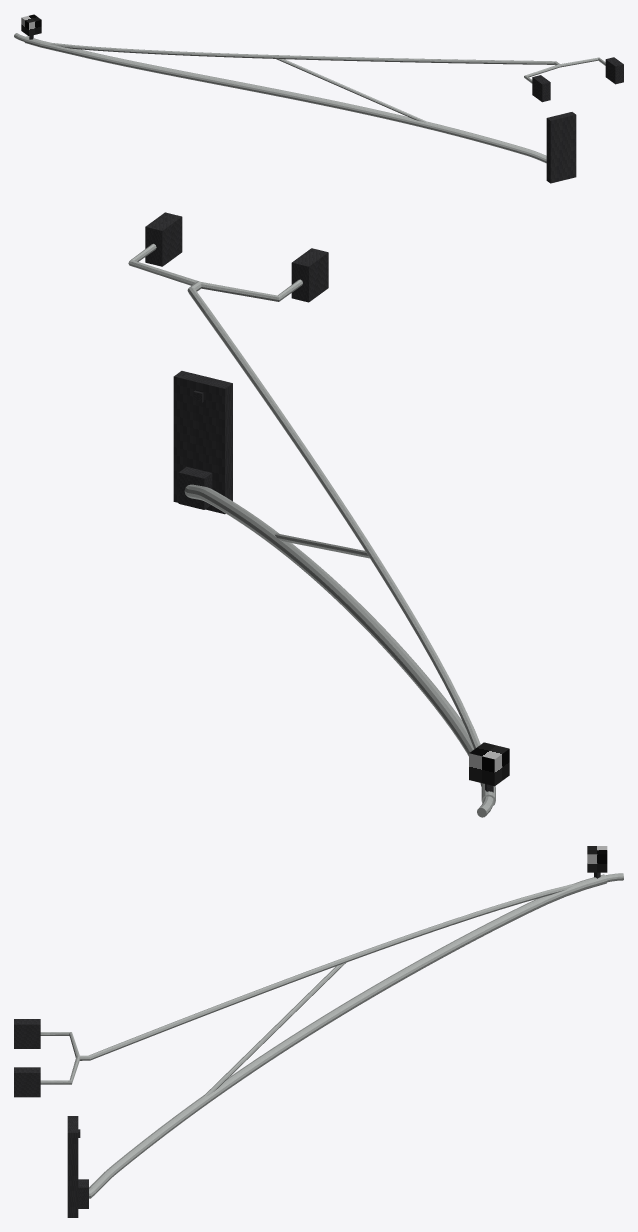
File: arm_7_left.obj
3 renders of one model, top to bottom at view 1: azimuth 30°, elevation 25°; view 2: azimuth 150°, elevation 25°; view 3: azimuth 270°, elevation 25°, orthographic. The views are drawn at different scales.
Visible parts, largest first — view 1: pole_light_mount_7_left; view 2: pole_light_mount_7_left; view 3: pole_light_mount_7_left.
Boxes of the visible parts, bbox=[...] form: pole_light_mount_7_left: bbox=[14, 14, 623, 183]; pole_light_mount_7_left: bbox=[128, 212, 509, 817]; pole_light_mount_7_left: bbox=[14, 846, 623, 1217].
Size of the model in its own units: 5.63 by 1.68 by 5.69.
